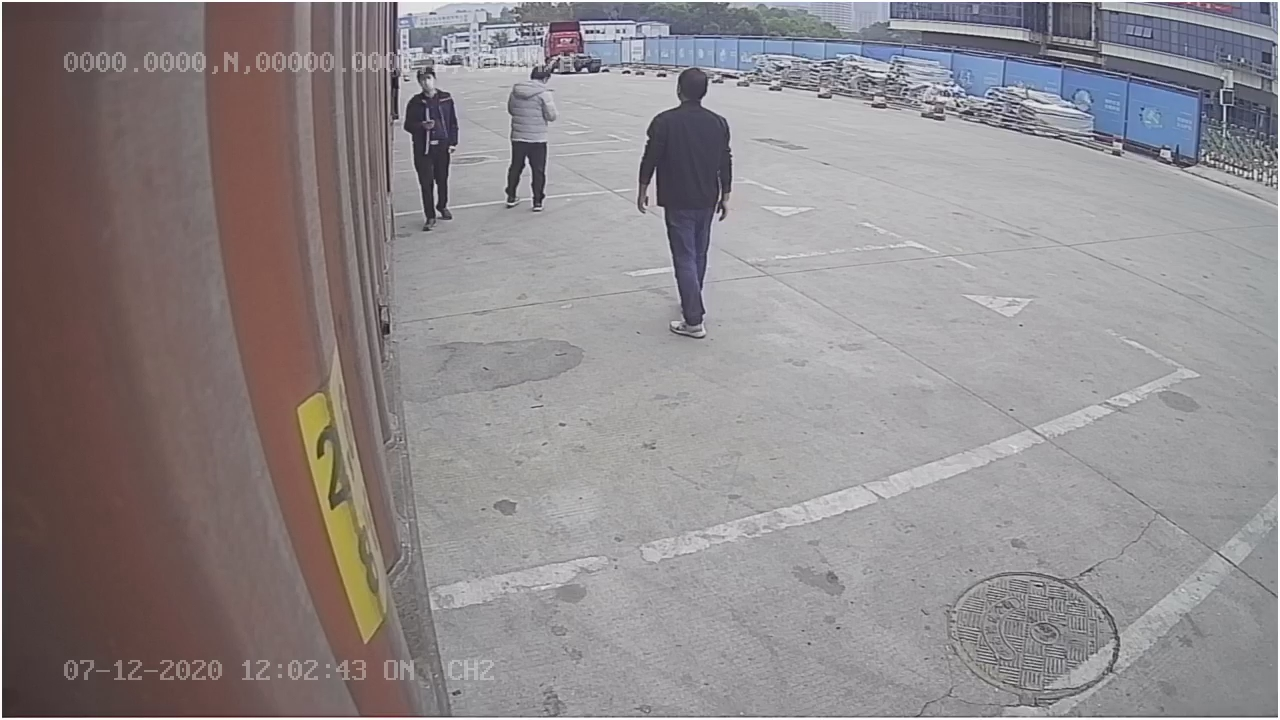person: (631, 57, 738, 345)
